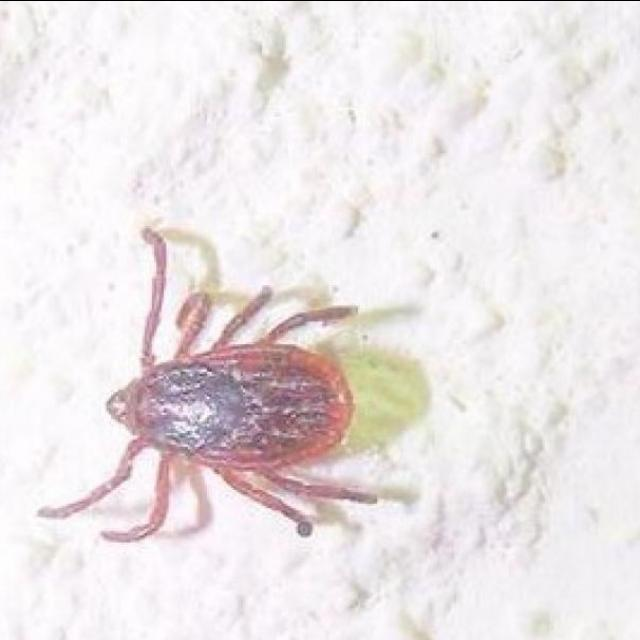Rhipicephalus Sanguineus-F: (39, 225, 370, 544)
